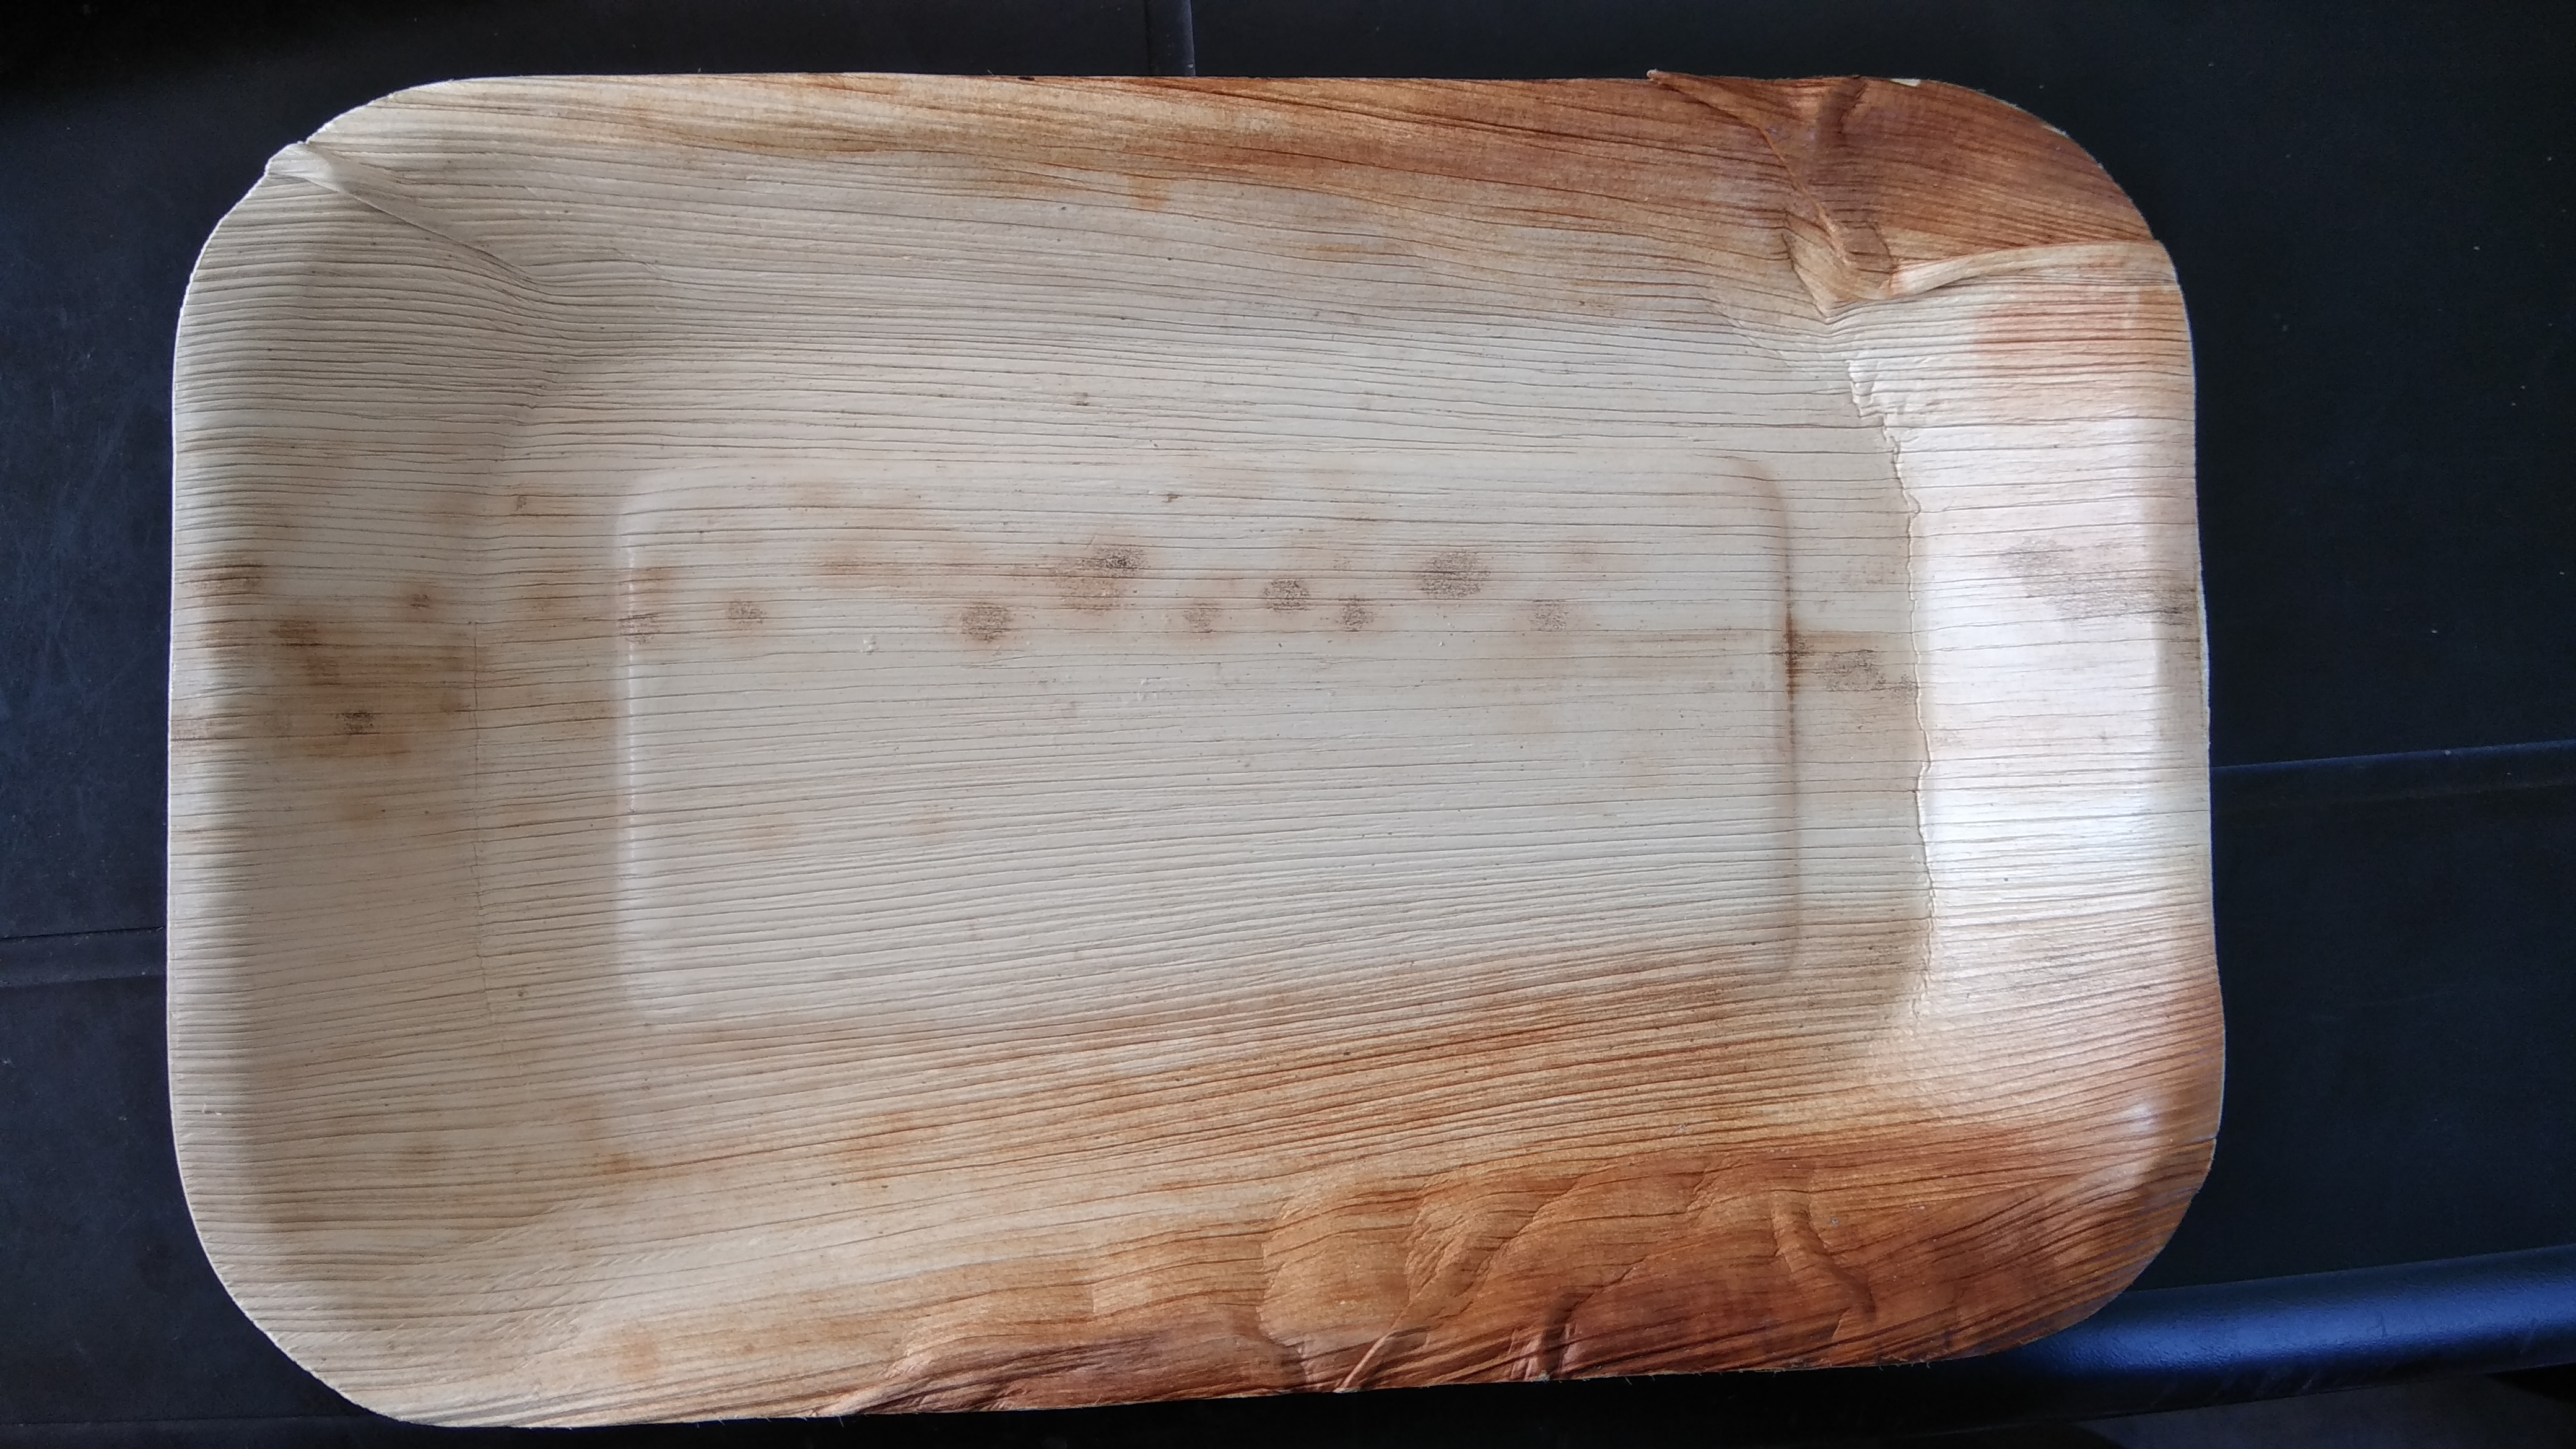areca plate: (170, 73, 2240, 1348)
